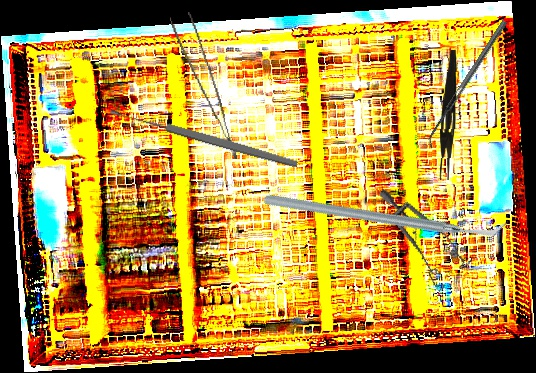Chopper: (261, 107, 511, 320)
Dressing Forceps: (438, 49, 459, 181)
Spatula Surgical: (423, 19, 512, 149)
Speculum: (352, 187, 486, 300)
Surgical Spoon: (109, 105, 299, 170)
Tissue Forceps: (169, 9, 238, 167)
